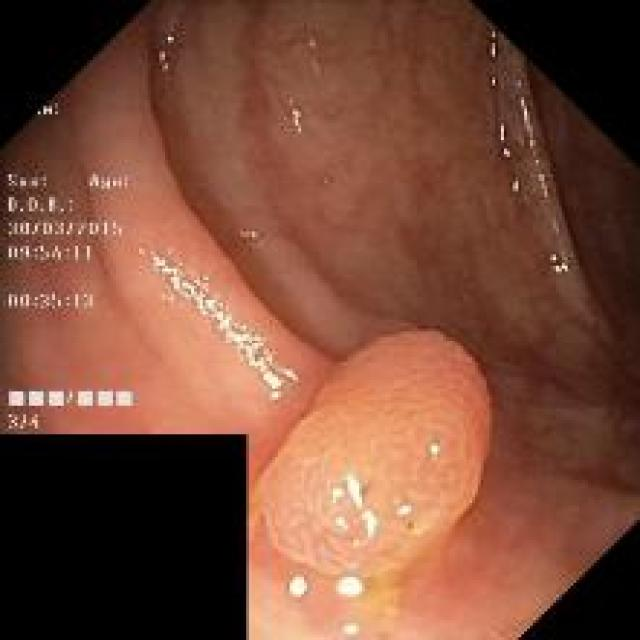Polyps: (255, 331, 493, 579)
